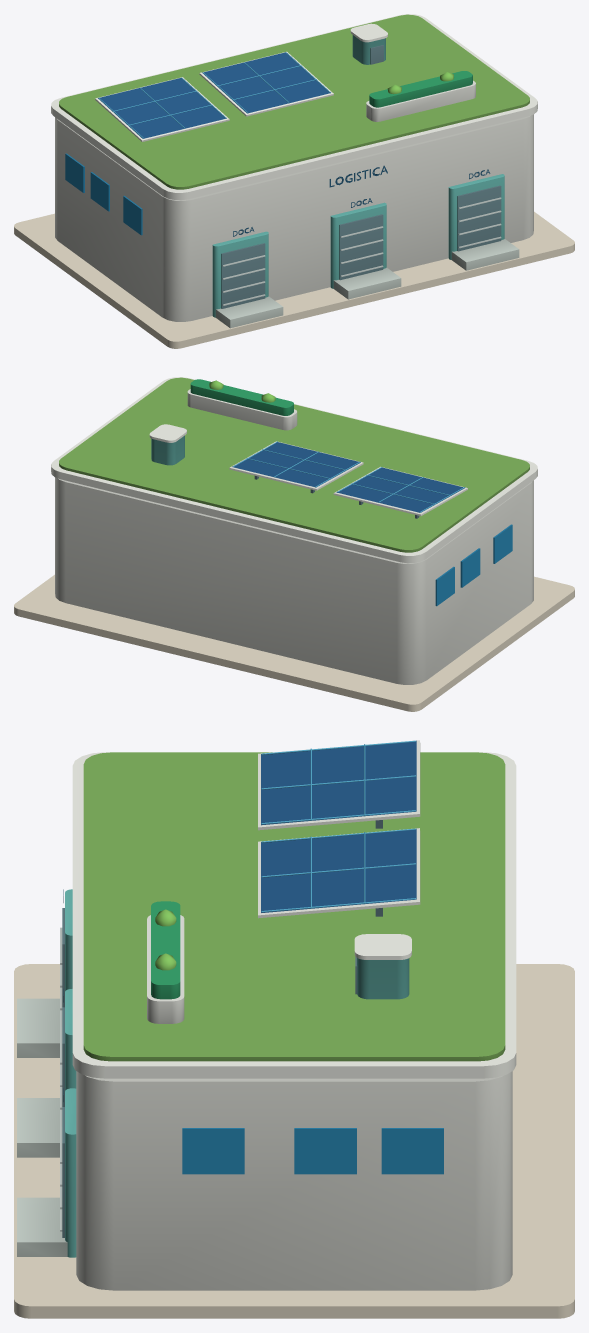
Rendered from port-warehouse-low.glb.
3 views of the same model, one above another, from view 1: azimuth 30°, elevation 25°; view 2: azimuth 150°, elevation 25°; view 3: azimuth 270°, elevation 25° (orthographic). The views are drawn at different scales.
Parts seen in each view (by area): view 1: clean industrial shell, green roof, industrial paved footing, photovoltaic cells, roof access hatch, roof access, loading threshold, factory side glass, planter foliage, roller rib, solar cell division, identity DOCA; view 2: clean industrial shell, green roof, industrial paved footing, photovoltaic cells, factory side glass, planter foliage, solar cell division, roof access; view 3: clean industrial shell, green roof, industrial paved footing, photovoltaic cells, factory side glass, loading threshold, roof access, solar cell division, planter foliage, roof access hatch, roller rib.
Boxes of the visible parts, <box> form: clean industrial shell: <box>51,14,537,321</box>; green roof: <box>59,14,529,189</box>; industrial paved footing: <box>14,211,574,348</box>; photovoltaic cells: <box>98,52,330,138</box>; roof access hatch: <box>221,45,501,308</box>; roof access: <box>212,35,504,317</box>; loading threshold: <box>215,239,519,328</box>; factory side glass: <box>65,153,142,235</box>; planter foliage: <box>369,71,472,107</box>; roller rib: <box>222,197,501,305</box>; solar cell division: <box>98,52,330,138</box>; identity DOCA: <box>233,165,490,236</box>; clean industrial shell: <box>51,377,537,684</box>; green roof: <box>59,377,529,552</box>; industrial paved footing: <box>14,574,574,711</box>; photovoltaic cells: <box>232,442,465,512</box>; factory side glass: <box>435,524,512,606</box>; planter foliage: <box>190,379,293,415</box>; solar cell division: <box>233,441,464,512</box>; roof access: <box>151,435,184,465</box>; clean industrial shell: <box>72,740,516,1290</box>; green roof: <box>83,752,505,1061</box>; industrial paved footing: <box>14,964,574,1318</box>; photovoltaic cells: <box>261,740,416,912</box>; factory side glass: <box>182,1128,443,1174</box>; loading threshold: <box>17,998,67,1256</box>; roof access: <box>65,889,409,1257</box>; solar cell division: <box>261,740,416,912</box>; planter foliage: <box>151,901,180,999</box>; roof access hatch: <box>62,820,382,1237</box>; roller rib: <box>60,927,62,1231</box>.
Bounding box in the file's own units: 6.5 × 2.58 × 4.5.
